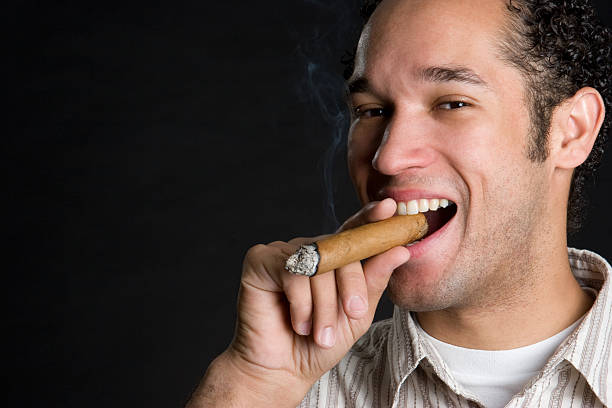cigarette: (284, 213, 430, 282)
